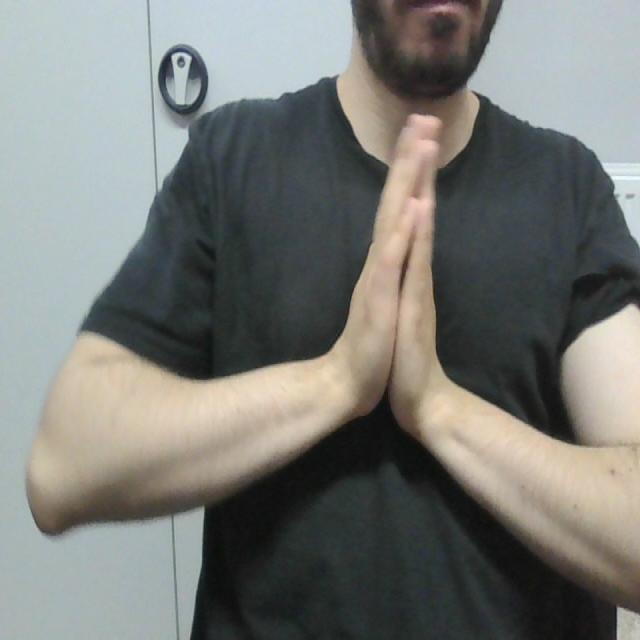Ozur-Dilemek: (326, 95, 451, 463)
